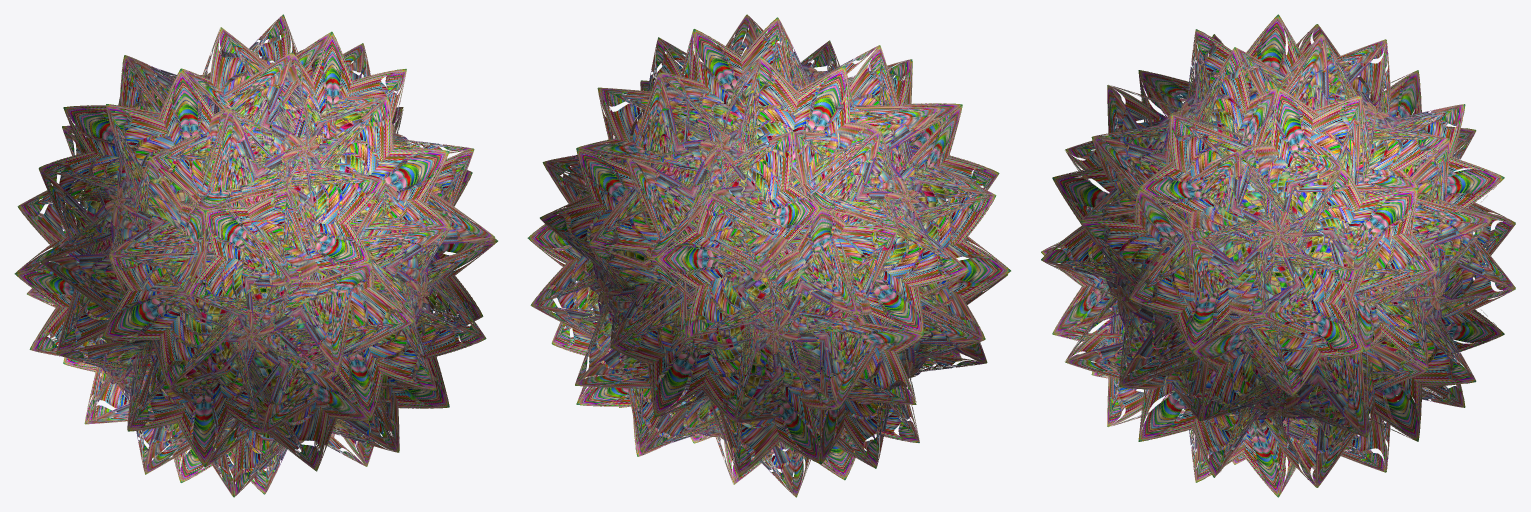
Rendered from 10GreatInvertedPentagonalHexecontahedron.gltf.
3 renders of one model, left to right at view 1: azimuth 30°, elevation 25°; view 2: azimuth 150°, elevation 25°; view 3: azimuth 270°, elevation 25°, orthographic.
Visible parts, largest first — view 1: 7GreatInvertedPentagonalHexecontahedron; view 2: 7GreatInvertedPentagonalHexecontahedron; view 3: 7GreatInvertedPentagonalHexecontahedron.
Boxes of the visible parts, box(x1,y1,x2,y2) form: 7GreatInvertedPentagonalHexecontahedron: box(14, 14, 497, 497); 7GreatInvertedPentagonalHexecontahedron: box(527, 14, 1010, 497); 7GreatInvertedPentagonalHexecontahedron: box(1041, 14, 1515, 497).
Bounding box in the file's own units: 1.13 × 1.13 × 1.13.
1 material, 1 textured.
